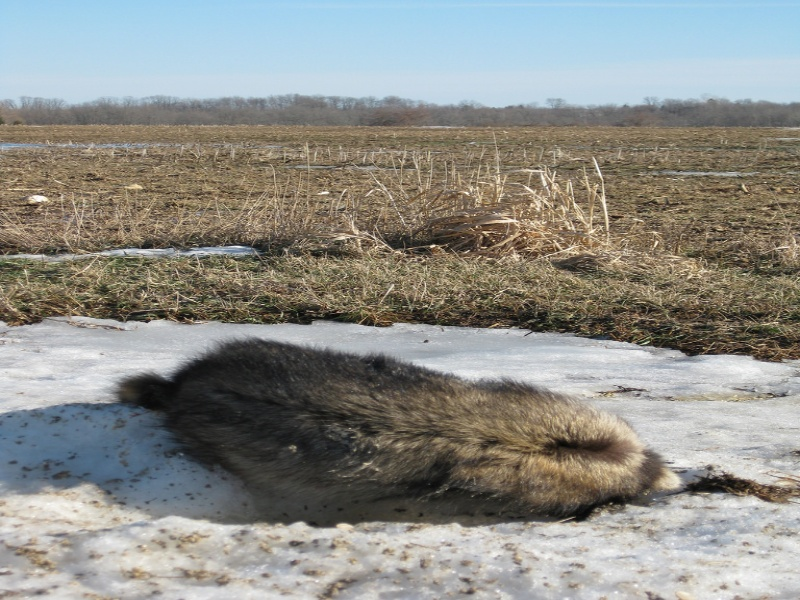raccoon: (116, 338, 687, 518)
